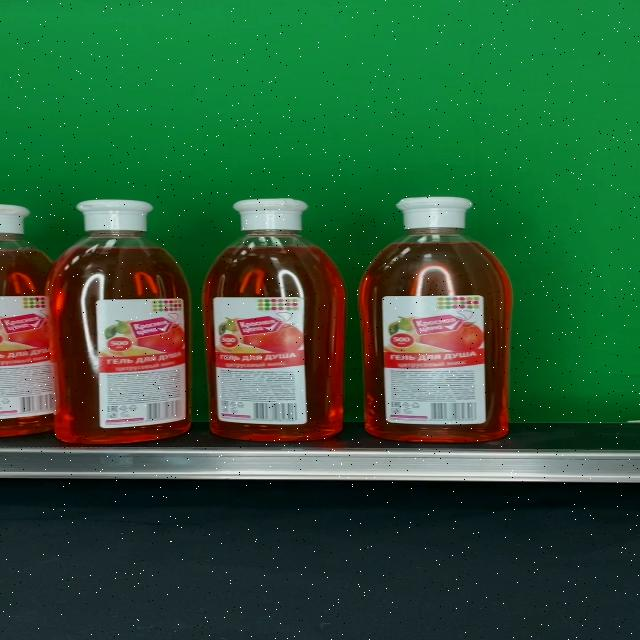Bottle: (360, 196, 512, 442), (46, 200, 191, 443), (202, 198, 346, 442)
Cap: (394, 197, 473, 230), (232, 198, 309, 231), (76, 200, 153, 231)
